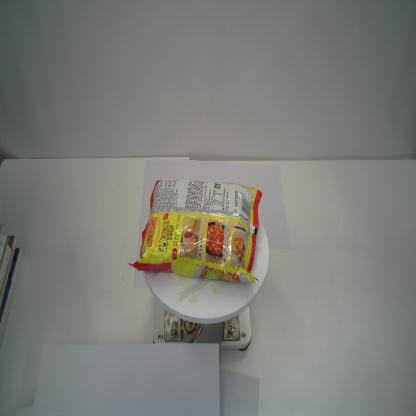Instant Noodles: (127, 179, 263, 285)
